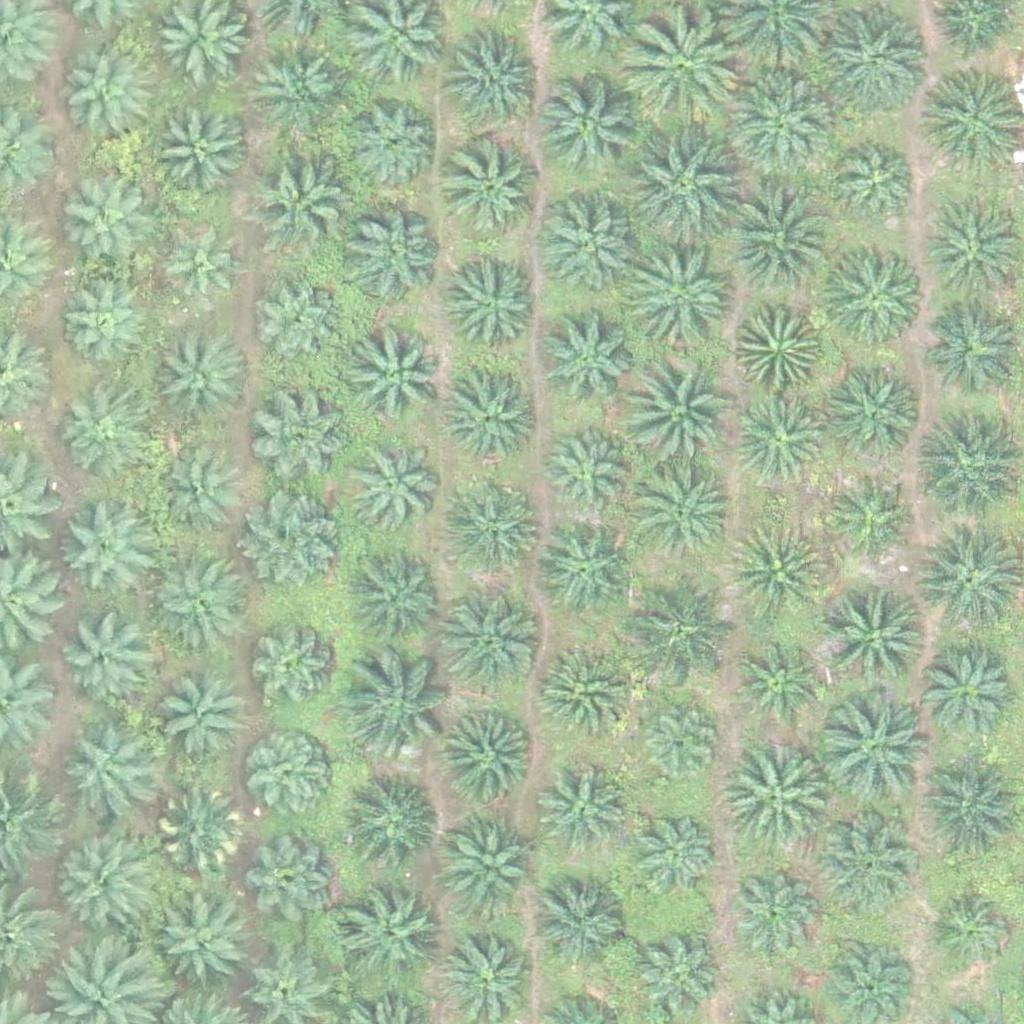Kelapa_Sawit: (908, 760, 1021, 873), (817, 697, 930, 810), (343, 653, 456, 766), (628, 569, 741, 682), (628, 244, 741, 357), (627, 128, 740, 241), (728, 65, 840, 179), (823, 582, 935, 696), (717, 741, 829, 854), (627, 458, 739, 571), (622, 348, 734, 461), (625, 11, 737, 124), (720, 180, 832, 293), (909, 411, 1021, 524), (910, 525, 1022, 638), (917, 647, 1017, 748), (814, 814, 914, 915), (531, 643, 631, 744), (533, 872, 633, 973), (343, 776, 443, 877), (339, 888, 439, 989), (154, 893, 254, 994), (55, 169, 155, 270), (149, 552, 249, 653), (150, 103, 250, 204), (247, 36, 347, 137), (250, 147, 350, 248), (249, 385, 349, 486), (247, 489, 347, 590), (350, 324, 450, 425), (343, 439, 443, 540), (347, 548, 447, 649), (441, 591, 541, 692), (440, 367, 540, 468), (442, 138, 542, 239), (538, 75, 638, 176), (533, 311, 633, 412), (536, 523, 636, 624), (726, 522, 826, 623), (825, 366, 925, 467), (824, 242, 924, 343), (438, 710, 538, 810), (439, 815, 539, 915), (48, 836, 148, 936), (56, 495, 156, 595), (340, 206, 440, 306), (448, 478, 548, 578), (443, 254, 543, 354), (450, 25, 550, 125), (537, 193, 637, 293), (923, 68, 1023, 168), (639, 700, 727, 788), (628, 807, 716, 895), (632, 935, 720, 1023), (926, 886, 1014, 974), (541, 768, 629, 856), (58, 614, 146, 702), (59, 730, 147, 818), (60, 52, 148, 140), (57, 285, 145, 373), (159, 329, 247, 417), (254, 279, 342, 367), (737, 392, 825, 480), (733, 643, 821, 731), (831, 467, 919, 555), (153, 222, 240, 311), (729, 868, 816, 956), (446, 934, 533, 1022), (249, 628, 336, 716), (246, 737, 333, 825), (249, 836, 336, 924), (156, 789, 243, 877), (155, 674, 242, 762), (56, 392, 143, 480), (154, 450, 241, 538), (349, 100, 436, 188), (543, 425, 630, 513), (735, 300, 822, 388), (836, 142, 923, 230)
